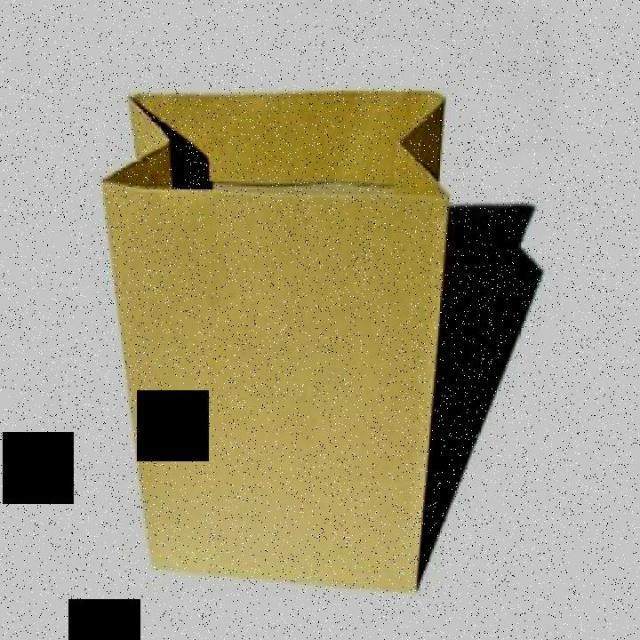box: (95, 72, 456, 590)
